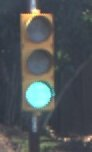Green: (16, 10, 56, 122)
